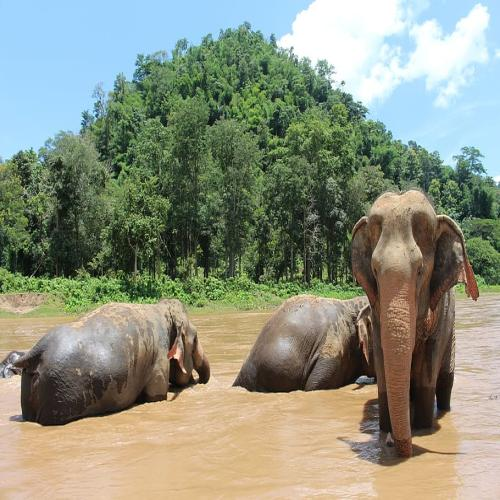asian_elephant-endangered: (348, 190, 469, 440), (10, 302, 206, 418), (244, 293, 370, 385)
